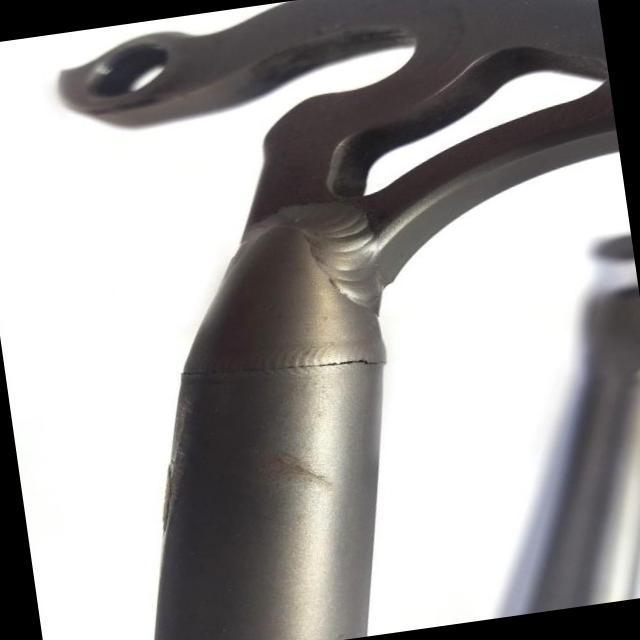defect: (177, 359, 390, 376)
